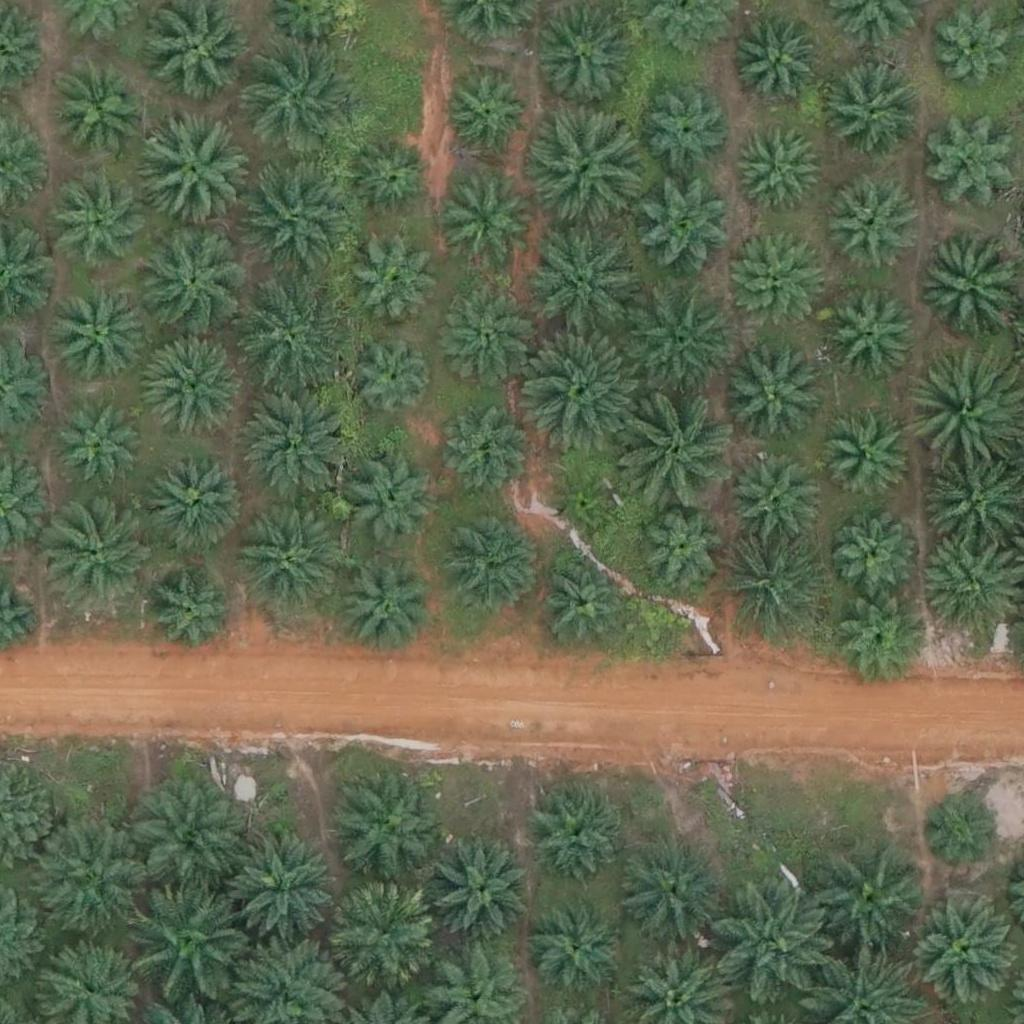Kelapa_Sawit: (331, 767, 444, 881), (229, 831, 342, 945), (620, 390, 733, 504), (243, 162, 356, 276), (715, 886, 828, 999), (327, 881, 440, 994), (135, 882, 248, 995), (719, 529, 832, 642), (529, 104, 642, 217), (133, 118, 246, 231), (619, 836, 731, 950), (39, 820, 151, 934), (231, 503, 343, 617), (909, 893, 1021, 1006), (815, 842, 927, 955), (133, 783, 245, 896), (623, 283, 735, 396), (528, 225, 640, 338), (525, 336, 637, 449), (246, 41, 358, 154), (234, 281, 346, 394), (242, 393, 354, 506), (136, 225, 248, 338), (46, 499, 158, 612), (526, 785, 626, 886), (429, 843, 529, 944), (918, 237, 1018, 338), (920, 105, 1020, 206), (731, 237, 831, 338), (727, 447, 827, 548), (634, 498, 734, 599), (629, 178, 729, 279), (535, 5, 635, 106), (442, 516, 542, 617), (336, 560, 436, 661), (147, 451, 247, 552), (50, 59, 150, 160), (52, 176, 152, 277), (48, 287, 148, 388), (527, 899, 627, 999), (825, 67, 925, 167), (829, 593, 929, 693), (727, 356, 827, 456), (146, 334, 246, 434), (827, 290, 915, 378), (820, 414, 908, 502), (824, 506, 912, 594), (732, 13, 820, 101), (733, 126, 821, 214), (443, 291, 531, 379), (352, 242, 440, 330), (348, 336, 436, 424), (148, 574, 236, 662), (540, 557, 627, 646), (444, 72, 531, 161), (60, 402, 147, 491), (927, 2, 1014, 90), (829, 178, 916, 266), (645, 85, 732, 173), (448, 187, 535, 275), (441, 407, 528, 495), (347, 139, 434, 227), (348, 453, 435, 541), (928, 796, 1003, 871), (556, 475, 619, 538)
